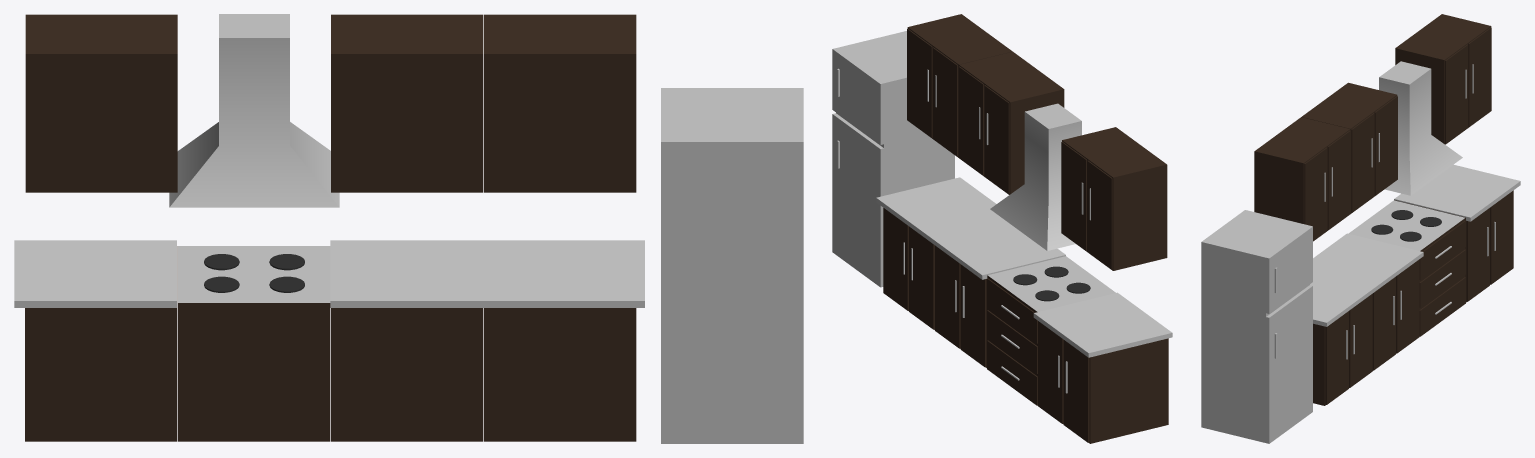
The model's file is kitchen.fbx.
3 views of the same model, side by side, from view 1: azimuth 30°, elevation 25°; view 2: azimuth 150°, elevation 25°; view 3: azimuth 270°, elevation 25° (orthographic). The views are drawn at different scales.
Visible parts, largest first — view 1: Box044.001, Box045.001, Box059.001, Box049.001, Box058.001, Box043.001, Box047.001, Box050.001, Box051.001, Box038.001, Box042.001; view 2: Box044.001, Box059.001, Box047.001, Box058.001, Box043.001, Box049.001, Box038.001, Box042.001, Box048.001, Box051.001, Box050.001, Box045.001; view 3: Box044.001, Box049.001, Box059.001, Box058.001, Box043.001, Box038.001, Box050.001, Box047.001, Box048.001, Box042.001, Box051.001, Box045.001.
Boxes of the visible parts, x1,y1,x2,y2 form: Box044.001: (661, 88, 803, 443); Box045.001: (178, 246, 330, 441); Box059.001: (25, 14, 177, 192); Box049.001: (484, 14, 636, 192); Box058.001: (331, 14, 483, 192); Box043.001: (330, 240, 644, 307); Box047.001: (25, 246, 177, 441); Box050.001: (484, 308, 636, 441); Box051.001: (331, 308, 483, 441); Box038.001: (169, 14, 339, 207); Box042.001: (14, 240, 176, 307); Box044.001: (832, 31, 954, 287); Box059.001: (1061, 127, 1167, 270); Box047.001: (1038, 321, 1168, 443); Box058.001: (958, 52, 1064, 194); Box043.001: (876, 177, 1065, 279); Box049.001: (907, 14, 1012, 157); Box038.001: (990, 103, 1081, 250); Box042.001: (1033, 292, 1172, 357); Box048.001: (987, 278, 1037, 405); Box051.001: (935, 245, 987, 367); Box050.001: (883, 208, 934, 329); Box045.001: (987, 256, 1115, 376); Box044.001: (1201, 210, 1312, 443); Box049.001: (1254, 117, 1350, 241); Box059.001: (1395, 14, 1491, 144); Box058.001: (1302, 82, 1397, 213); Box043.001: (1310, 233, 1423, 326); Box038.001: (1379, 61, 1462, 195); Box050.001: (1313, 294, 1372, 405); Box047.001: (1394, 190, 1513, 302); Box048.001: (1419, 220, 1465, 336); Box042.001: (1394, 164, 1520, 221); Box051.001: (1372, 259, 1419, 370); Box045.001: (1348, 200, 1465, 309).
Size of the model in its own units: 282 by 162 by 196.
